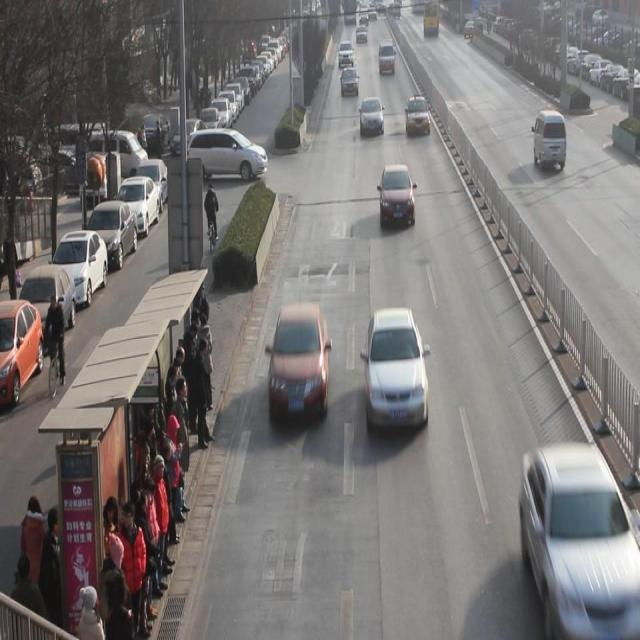car: (520, 442, 640, 640), (365, 308, 430, 432), (268, 305, 328, 424), (380, 164, 416, 228), (405, 95, 431, 137), (360, 98, 384, 137), (341, 65, 360, 97)
truck: (534, 110, 567, 171), (379, 40, 396, 76)
